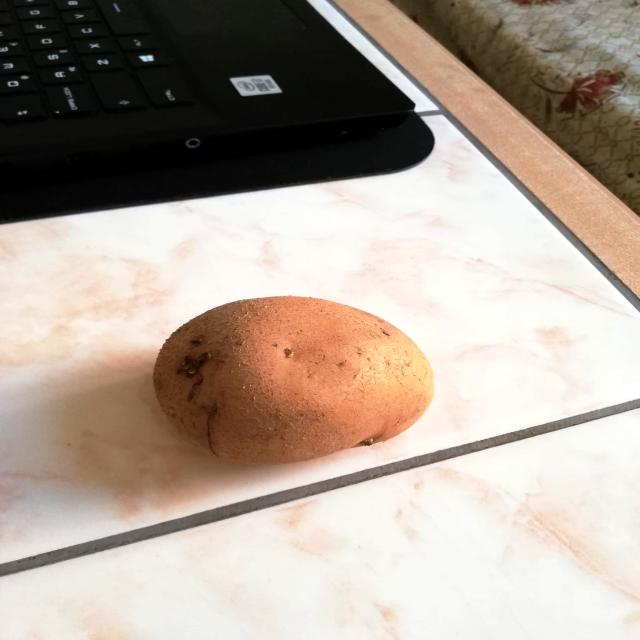potato: (140, 292, 450, 473)
